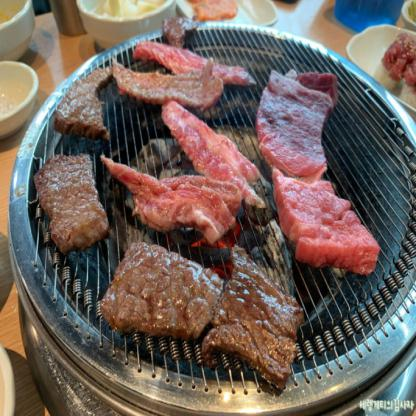Carne: (209, 240, 304, 396), (100, 233, 226, 342), (31, 146, 109, 253), (57, 62, 112, 136)
